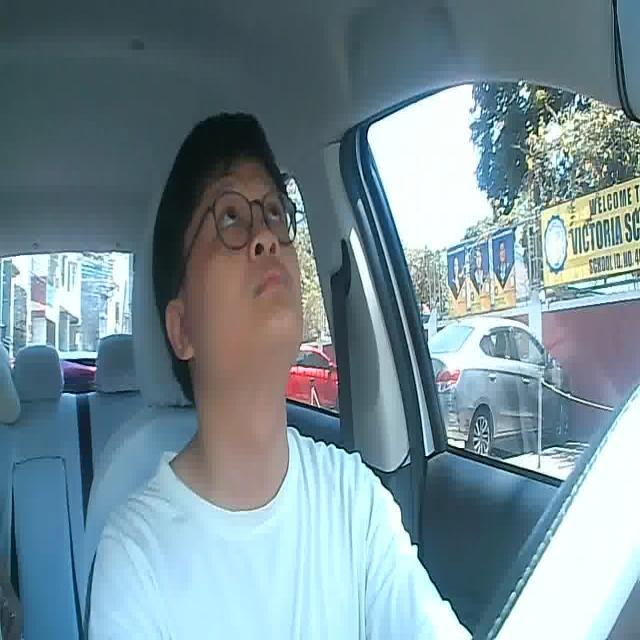Eye-Open: (220, 204, 242, 228), (266, 204, 286, 225)
Inattentive: (152, 110, 304, 385)
Normal: (255, 264, 294, 300)
